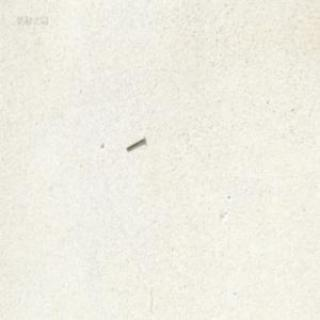Bolttrack_idkeyframe: (124, 134, 144, 150)
